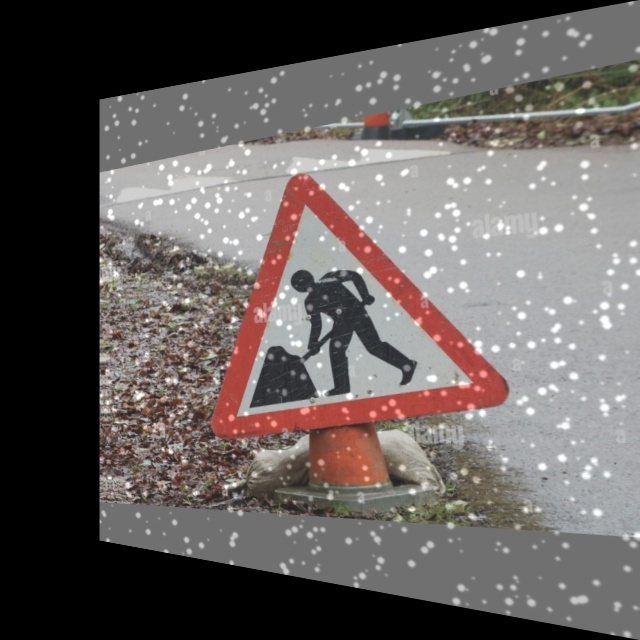Men_at_Work: (197, 139, 526, 457)
